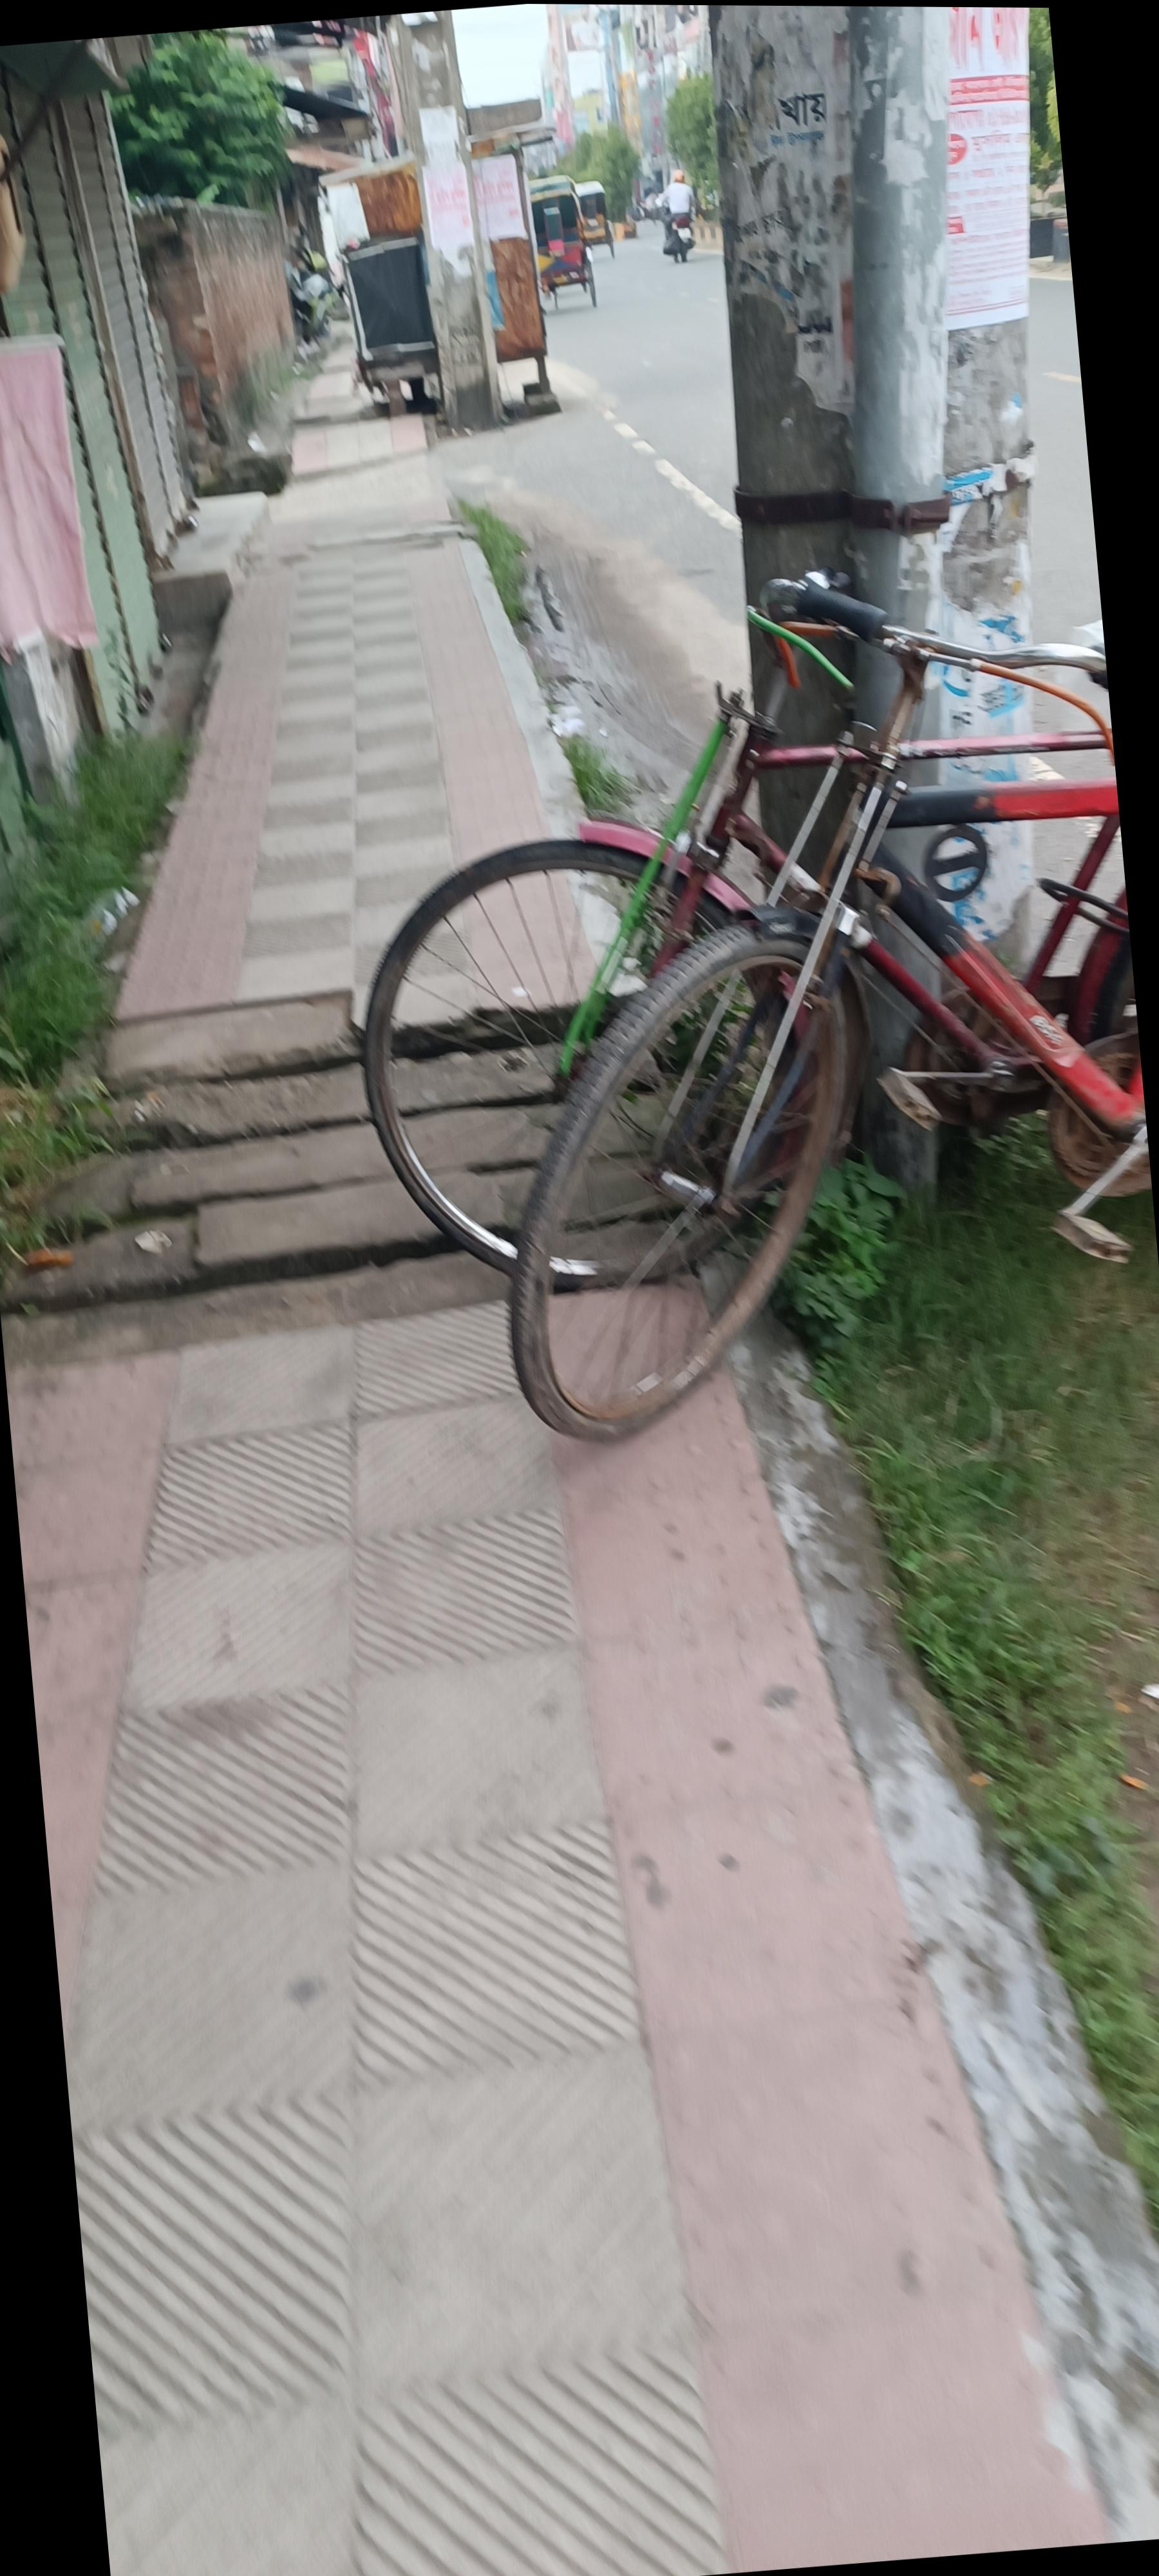Fallen-tree: (553, 261, 593, 314)
Garbage-bin: (552, 220, 596, 312)
Light-pole: (294, 149, 404, 470)
Pothole: (100, 501, 525, 997)
Traffic-cone: (281, 688, 1054, 1370)
